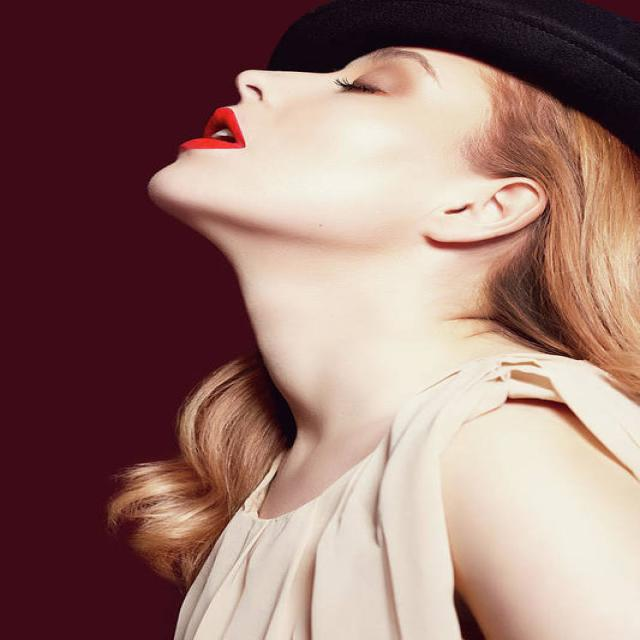hat: (146, 0, 640, 272)
